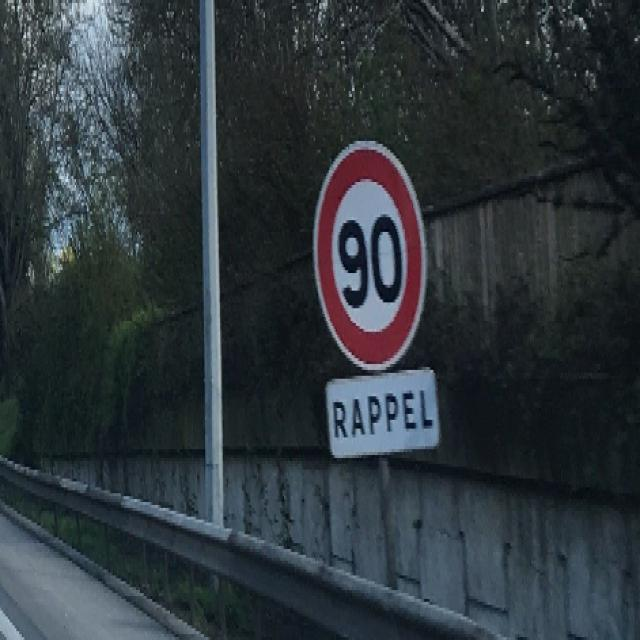speed_90: (313, 134, 428, 374)
